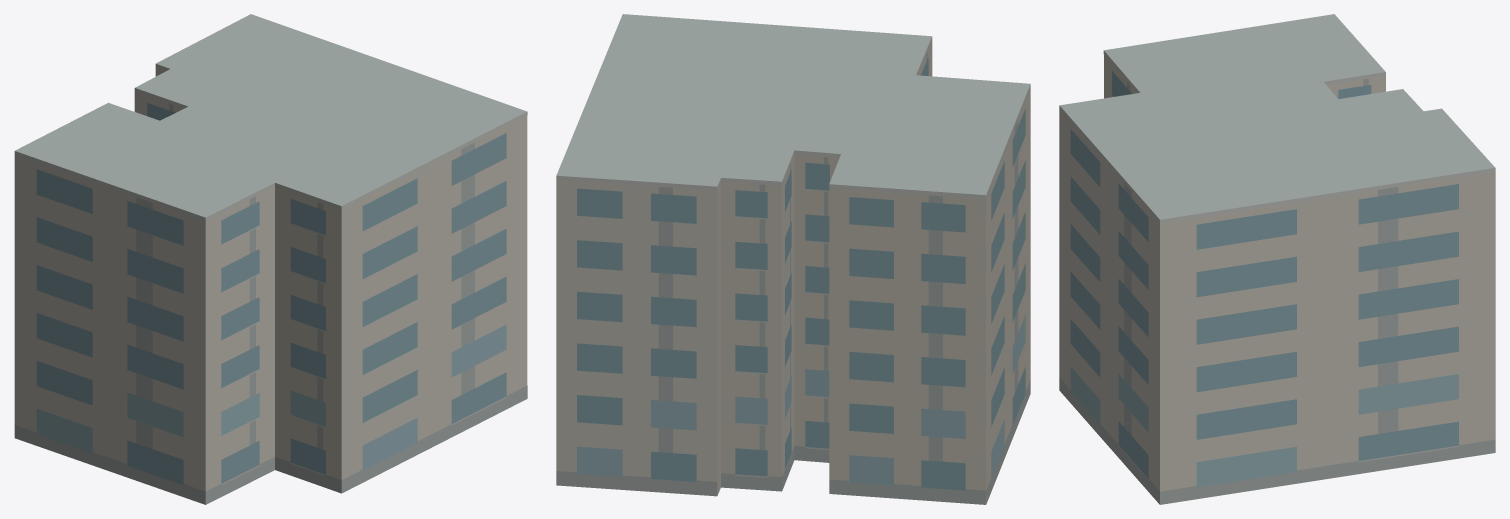
The model's file is survey-upis-32841831.glb.
3 renders of one model, left to right at view 1: azimuth 30°, elevation 25°; view 2: azimuth 150°, elevation 25°; view 3: azimuth 270°, elevation 25°, orthographic. The views are drawn at different scales.
Parts seen in each view (by area): view 1: survey-upis-32841831.tmp; view 2: survey-upis-32841831.tmp; view 3: survey-upis-32841831.tmp.
Part boxes in pixels (x1=…): survey-upis-32841831.tmp: x1=14, y1=14, x2=527, y2=504; survey-upis-32841831.tmp: x1=556, y1=14, x2=1030, y2=504; survey-upis-32841831.tmp: x1=1059, y1=14, x2=1495, y2=504.
Size of the model in its own units: 27.33 by 17.65 by 24.47.
